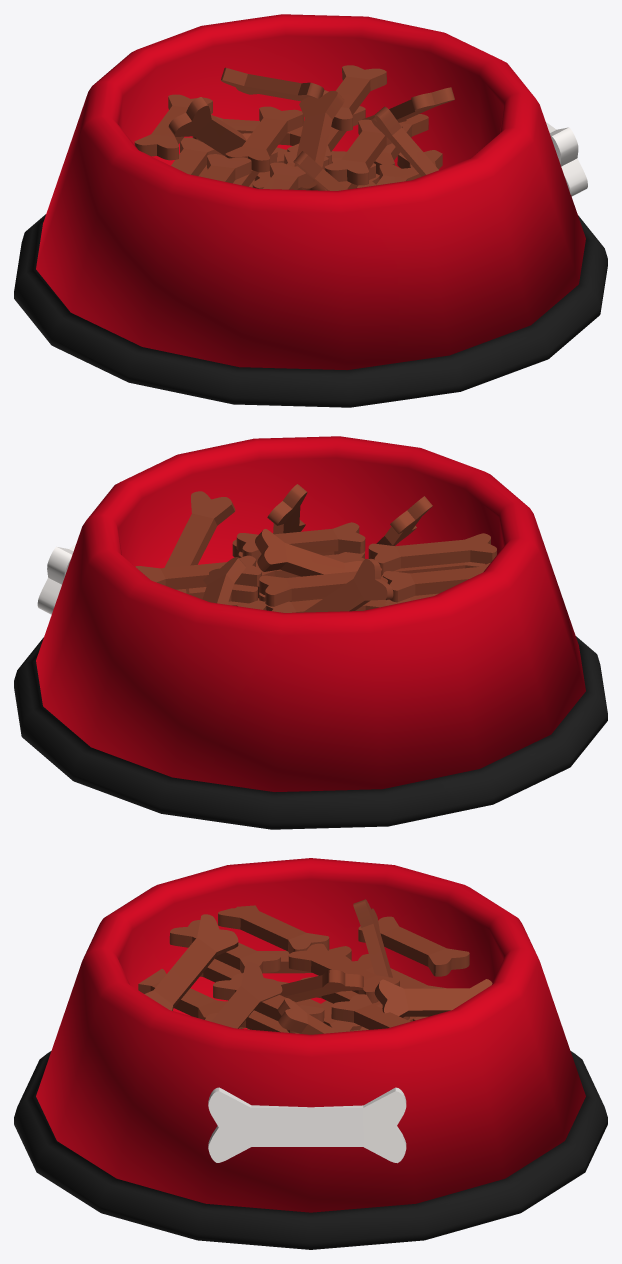
Rendered from köpke mama kabı 1(kemik şeklinde).fbx.
3 views of the same model, one above another, from view 1: azimuth 30°, elevation 25°; view 2: azimuth 150°, elevation 25°; view 3: azimuth 270°, elevation 25° (orthographic).
Parts seen in each view (by area): view 1: Circle; view 2: Circle; view 3: Circle.
Boxes of the visible parts, bbox=[...] form: Circle: bbox=[14, 14, 607, 407]; Circle: bbox=[14, 436, 607, 829]; Circle: bbox=[14, 858, 607, 1249].
Size of the model in its own units: 18.74 by 6.42 by 18.74.
1 material, 1 textured.
